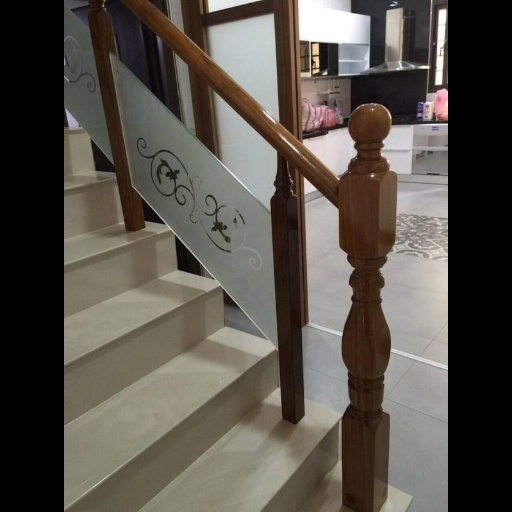Stairs: (65, 130, 340, 512)
